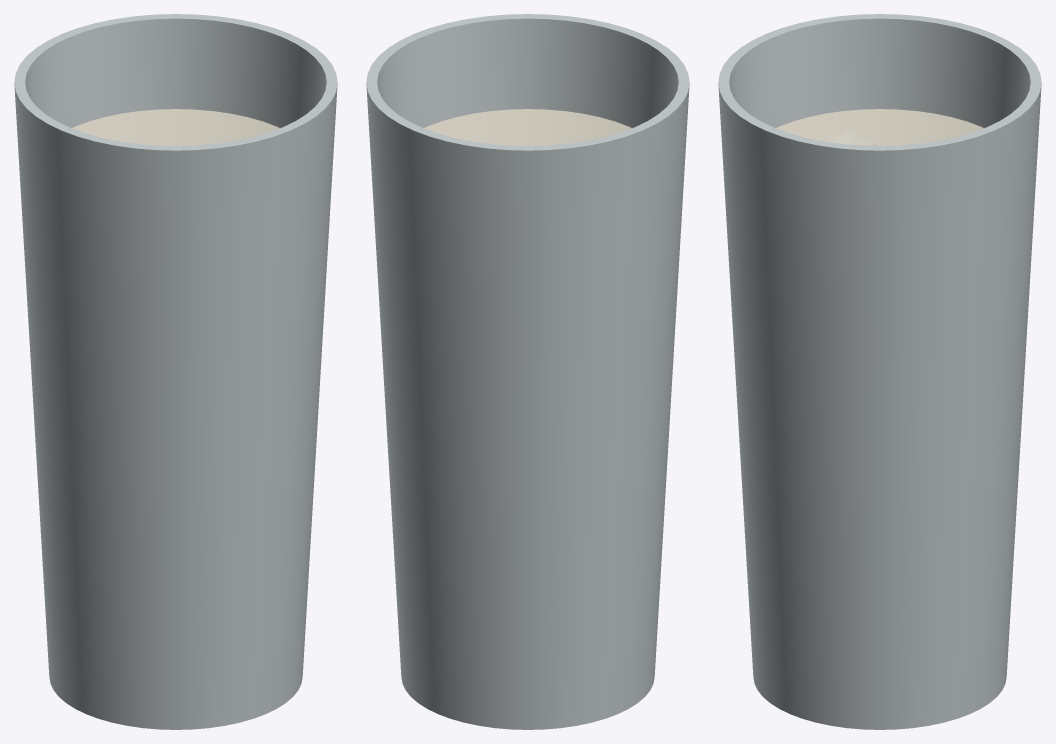
The model's file is copo_suco-branco.glb.
3 views of the same model, side by side, from view 1: azimuth 30°, elevation 25°; view 2: azimuth 150°, elevation 25°; view 3: azimuth 270°, elevation 25° (orthographic).
Visible parts, largest first — view 1: copo_suco-branco; view 2: copo_suco-branco; view 3: copo_suco-branco.
Part boxes in pixels (x1,y1,x2,y2): copo_suco-branco: (14, 14, 337, 729); copo_suco-branco: (366, 14, 689, 729); copo_suco-branco: (718, 14, 1041, 729).
Size of the model in its own units: 0.074 by 0.15 by 0.074.
